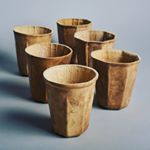cups: (41, 62, 102, 139), (90, 47, 143, 113), (22, 41, 75, 105)
